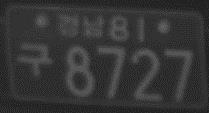1: (132, 17, 153, 41)
2: (132, 47, 163, 102)
7: (164, 48, 194, 103), (98, 46, 126, 99)
8: (63, 44, 97, 97), (110, 14, 129, 42)
경남_O: (56, 13, 106, 40)
구: (17, 41, 53, 77)
